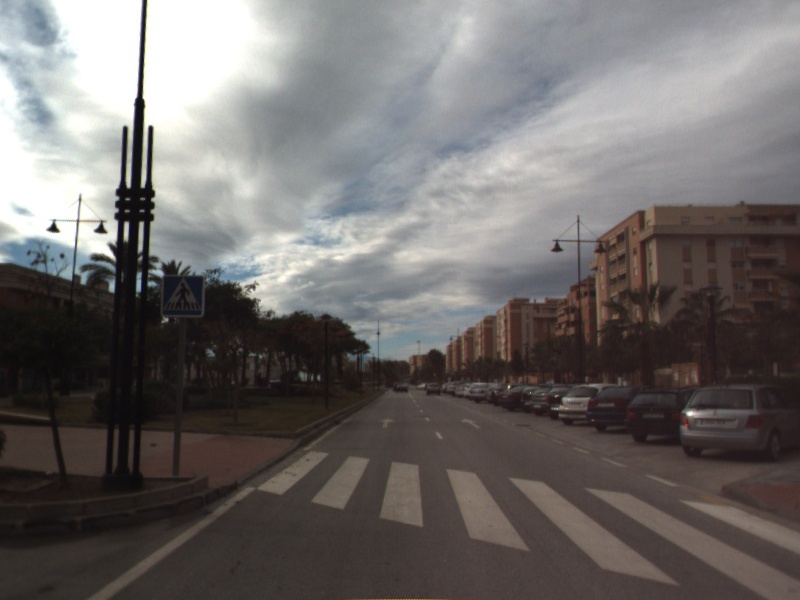STRAIGHT: (459, 416, 482, 430), (377, 416, 397, 430)
